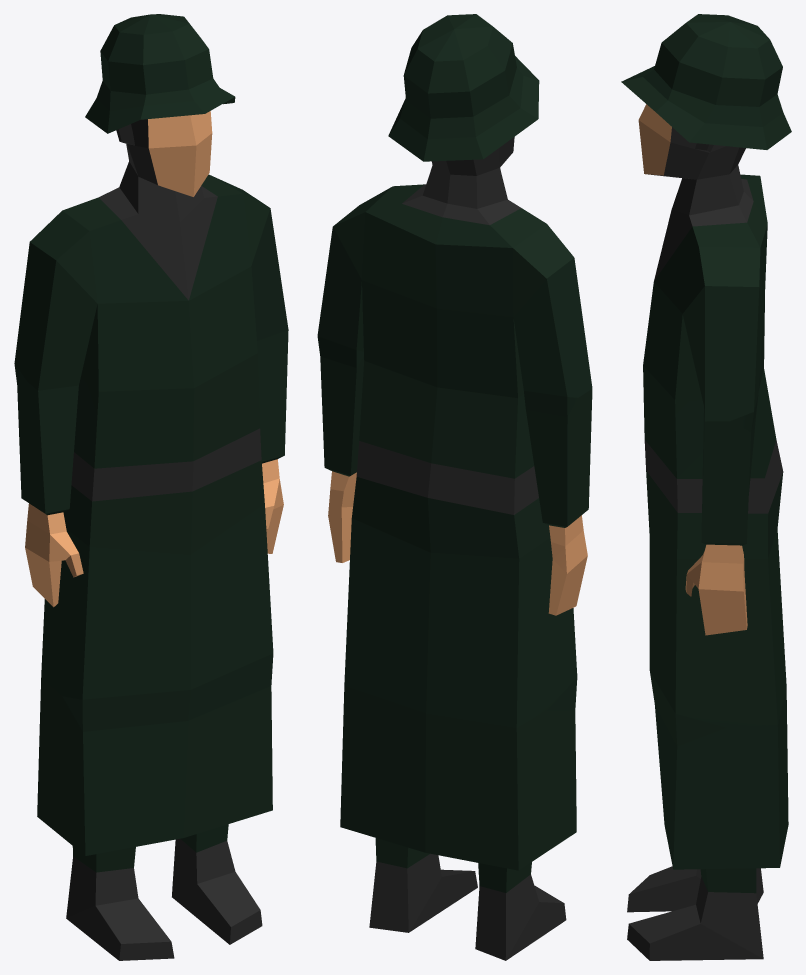
The model's file is people_man-soldier-special-ge.fbx.
3 renders of one model, left to right at view 1: azimuth 30°, elevation 25°; view 2: azimuth 150°, elevation 25°; view 3: azimuth 270°, elevation 25°, orthographic.
Parts seen in each view (by area): view 1: people_man_soldier_special_ge; view 2: people_man_soldier_special_ge; view 3: people_man_soldier_special_ge.
Boxes of the visible parts, x1,y1,x2,y2 form: people_man_soldier_special_ge: (14,14,288,960); people_man_soldier_special_ge: (317,14,592,960); people_man_soldier_special_ge: (621,14,791,960).
Bounding box in the file's own units: 58.24 × 200 × 34.26.
